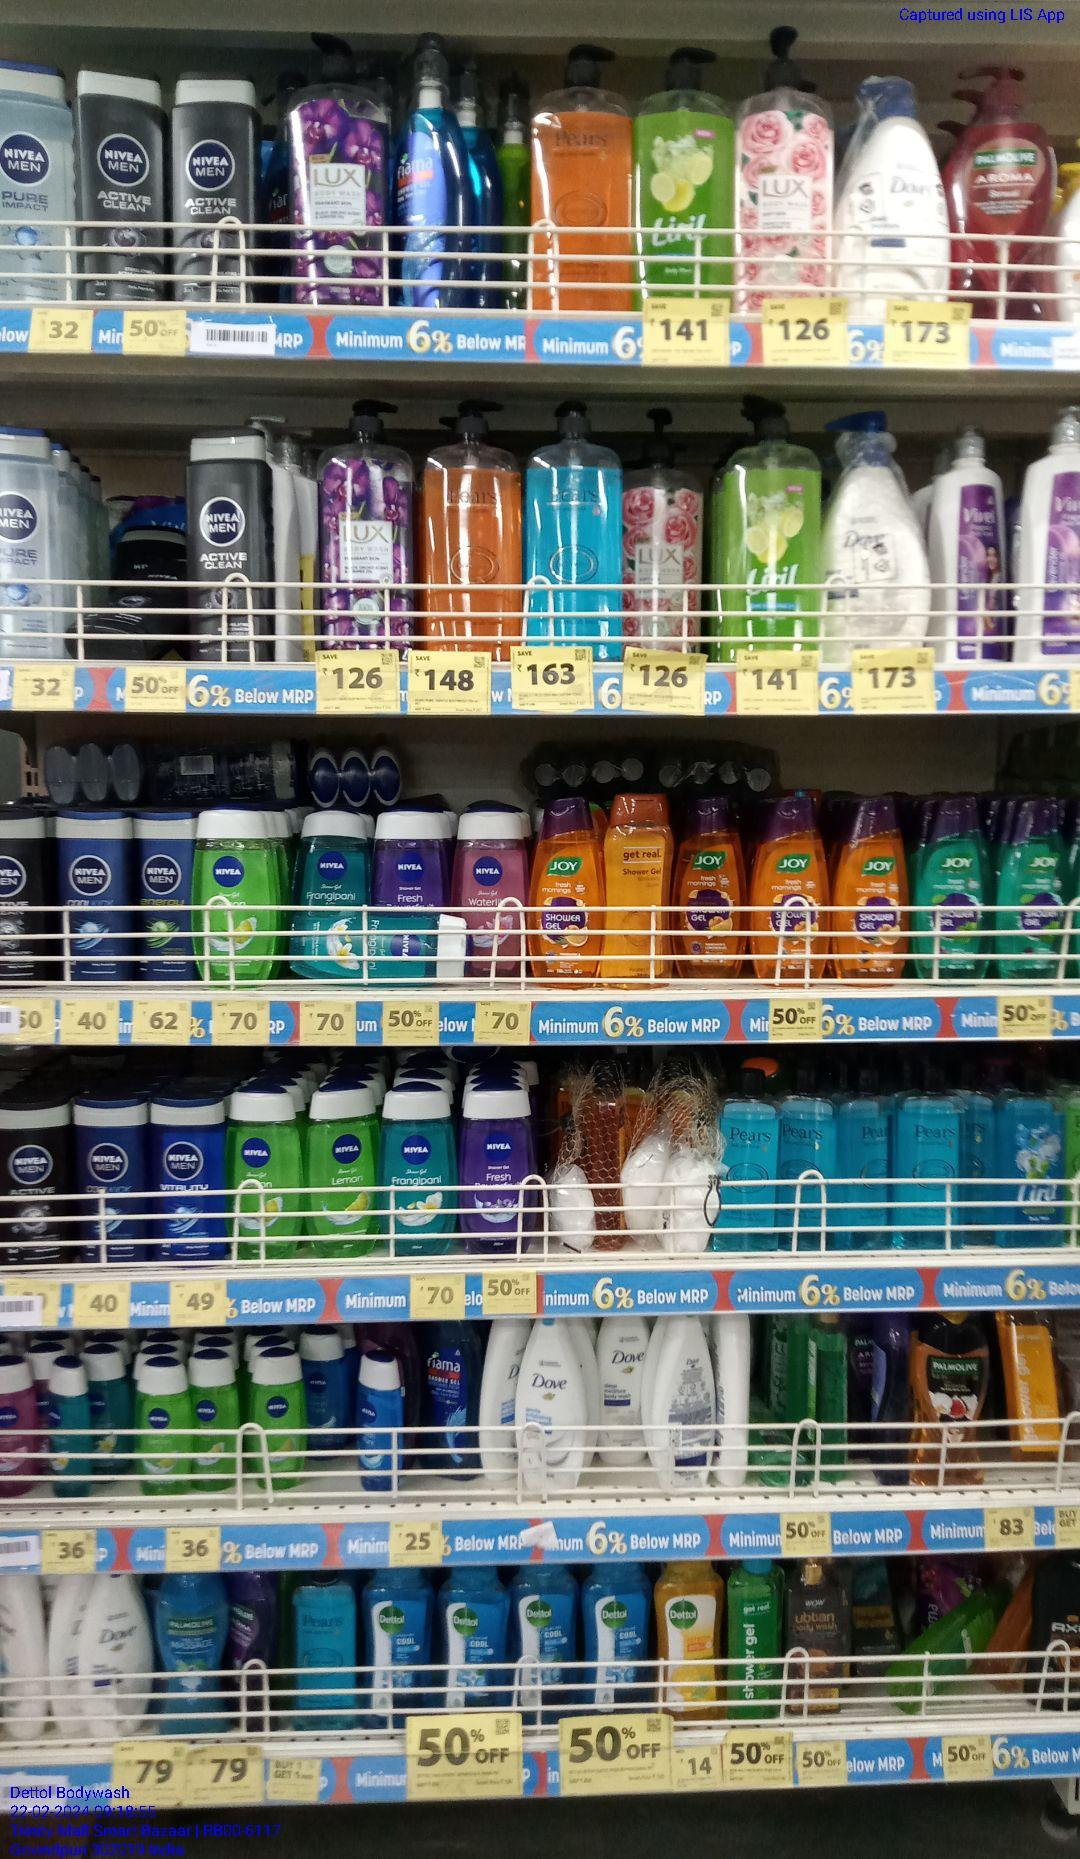Dettol_Bodywash_Cool: (364, 1562, 438, 1712), (517, 1563, 586, 1714), (590, 1556, 654, 1714), (444, 1567, 509, 1712)
Dettol_Bodywash_Refresh: (661, 1562, 724, 1719)
Dove_Deep_Moisture_Body_Wash_250ML: (80, 1570, 154, 1738)
Dove_Gentle_Exfoliating_Body_Wash_250ML: (519, 1307, 573, 1498)
Get_Real_Shower_Gel_Moisturising_Glycerin_300ML: (600, 792, 670, 990)
Joy_Shower_Gel_Mandarin_and_Lemongrass_250ML: (755, 786, 831, 987), (833, 792, 910, 987), (671, 791, 744, 977), (530, 798, 600, 989)
Joy_Shower_Gel_Mint_and_Eucalyptus_250ML: (917, 784, 991, 978), (991, 792, 1067, 982)
Nivea_Shower_Gel_Frangipani_and_Oil_250ML: (387, 1081, 456, 1260)
Nivea_Shower_Gel_Fresh_Powerfruit_250ML: (464, 1081, 539, 1259)
Nivea_Shower_Gel_Lemon_and_Oil_250ML: (197, 807, 275, 985), (306, 1081, 383, 1259), (225, 1089, 303, 1257)
Nivea_Shower_Gel_Waterlily_and_Oil_250ML: (451, 809, 531, 981)
Palmolive_Aroma_Moments_Feel_The_Massage_Shower_Gel_250ML: (156, 1572, 229, 1736)
Palmolive_Luminous_Oils_With_White_Orchid_Shower_Gel_250ML: (906, 1313, 989, 1490)
Pears_Pure_Glycerin_and_Mint_Extracts_Body_Wash_250ML: (895, 1055, 963, 1250), (998, 1057, 1065, 1250), (291, 1570, 361, 1736), (717, 1070, 780, 1252), (782, 1062, 840, 1252)
